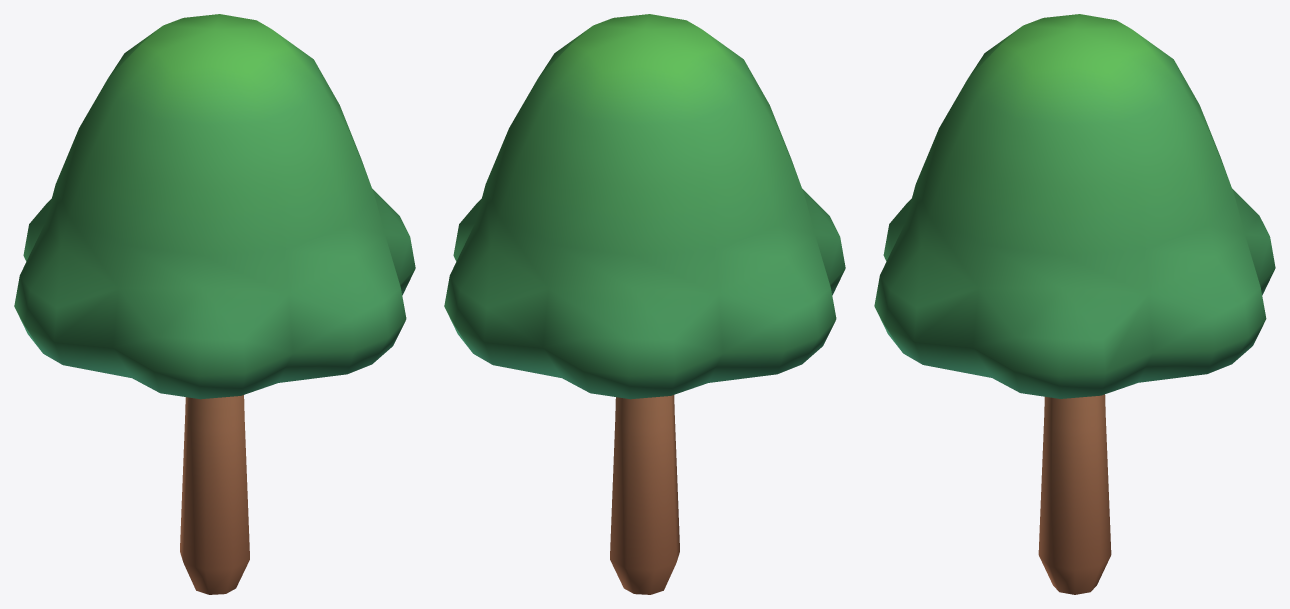
File: tree.fbx
The picture shows the model from 3 angles, left to right: view 1: azimuth 30°, elevation 25°; view 2: azimuth 150°, elevation 25°; view 3: azimuth 270°, elevation 25°; orthographic projection.
Parts seen in each view (by area): view 1: tree; view 2: tree; view 3: tree.
Boxes of the visible parts, x1,y1,x2,y2 form: tree: [14, 14, 415, 594]; tree: [444, 14, 845, 594]; tree: [874, 14, 1275, 594].
Bounding box in the file's own units: 2.48 × 3.62 × 2.37.
